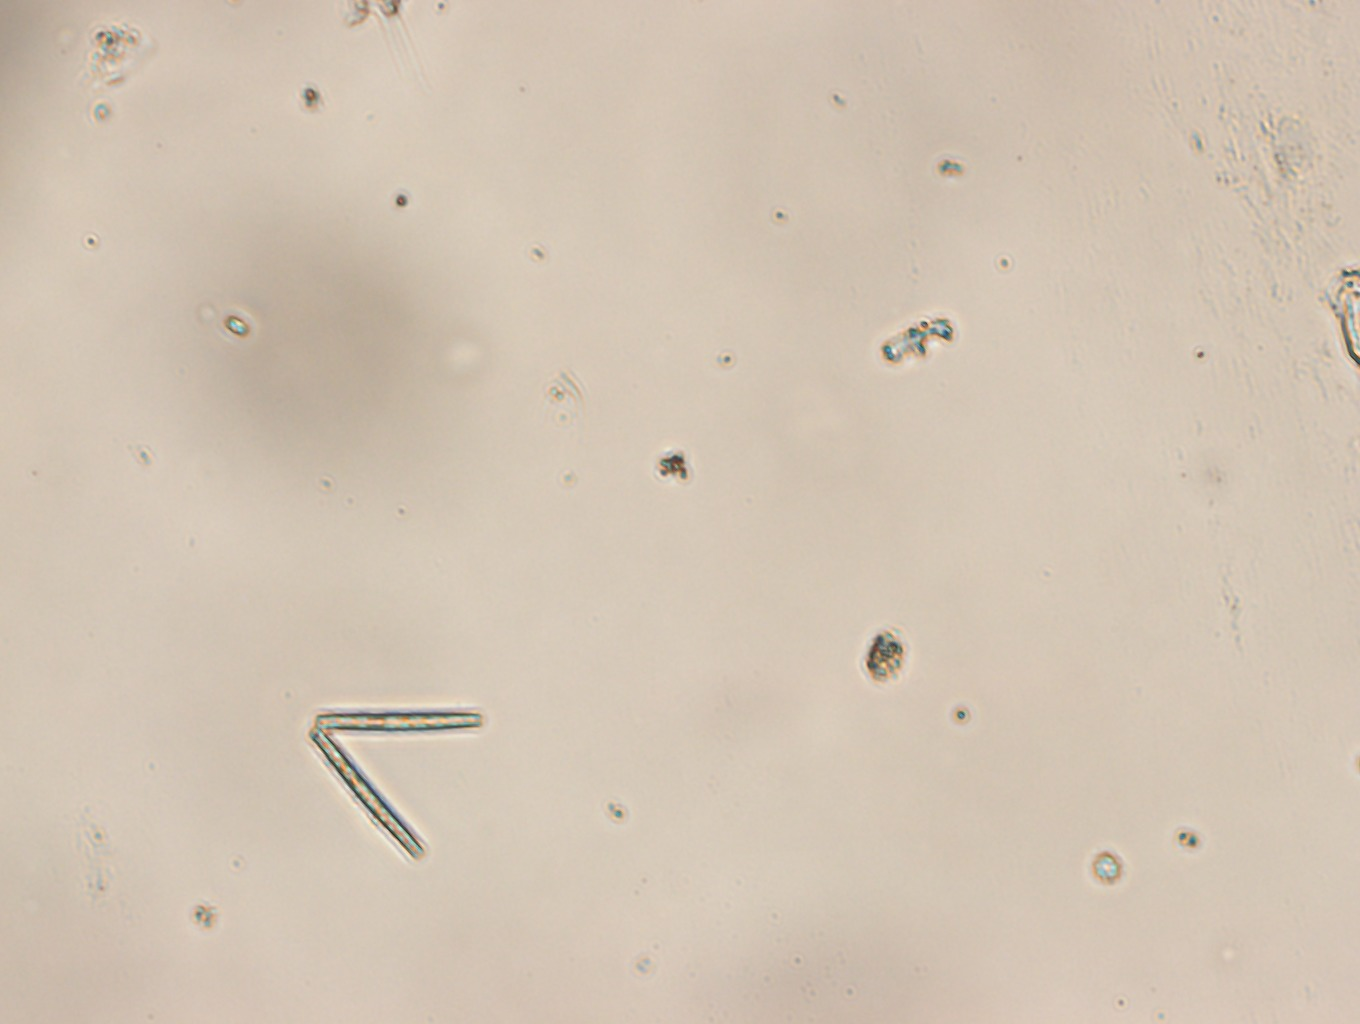thalassionema nitzschioides: (306, 708, 484, 863)
